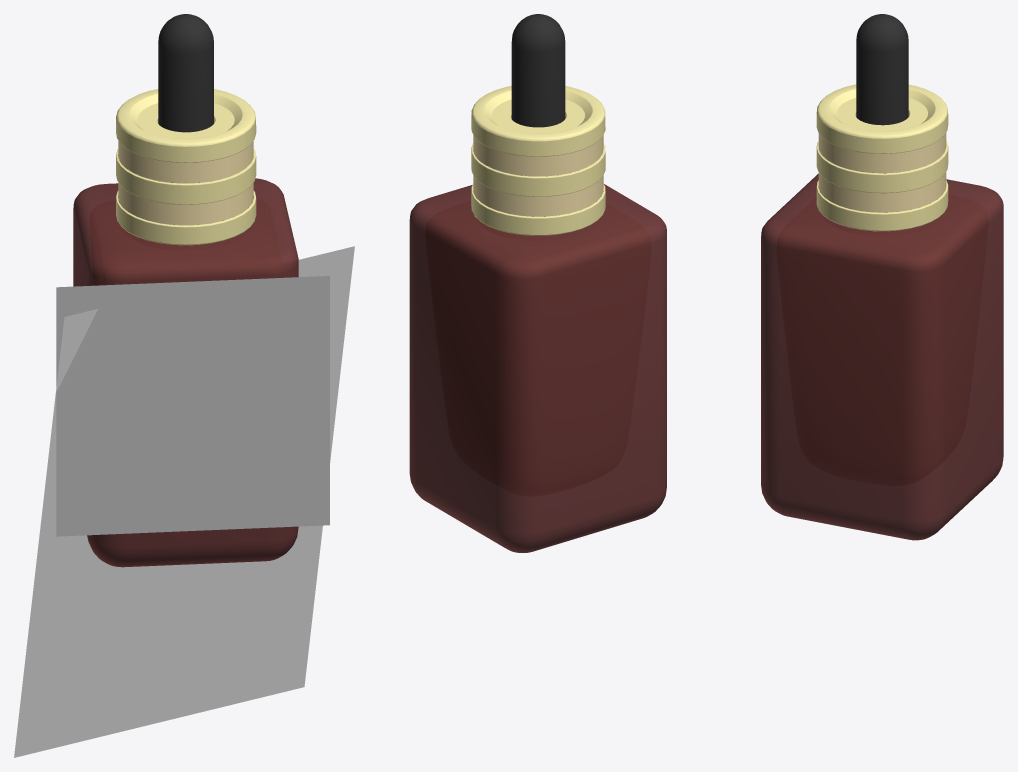
The model's file is Bottle.gltf.
The picture shows the model from 3 angles, left to right: view 1: azimuth 30°, elevation 25°; view 2: azimuth 150°, elevation 25°; view 3: azimuth 270°, elevation 25°; orthographic projection. The views are drawn at different scales.
Visible parts, largest first — view 1: TextFront, Flare, Body, Cap_Gold, Top, Cap_Sparkled_Gold; view 2: Body, Cap_Gold, Top, Cap_Sparkled_Gold; view 3: Body, Cap_Gold, Top, Cap_Sparkled_Gold.
Boxes of the visible parts, x1=… form: TextFront: x1=56, y1=276, x2=329, y2=536; Flare: x1=14, y1=246, x2=354, y2=757; Body: x1=73, y1=178, x2=298, y2=567; Cap_Gold: x1=116, y1=89, x2=256, y2=245; Top: x1=158, y1=14, x2=213, y2=182; Cap_Sparkled_Gold: x1=118, y1=141, x2=253, y2=225; Body: x1=409, y1=172, x2=666, y2=552; Cap_Gold: x1=471, y1=86, x2=605, y2=235; Top: x1=511, y1=14, x2=565, y2=176; Cap_Sparkled_Gold: x1=473, y1=135, x2=603, y2=216; Body: x1=761, y1=173, x2=1003, y2=540; Cap_Gold: x1=816, y1=84, x2=948, y2=231; Top: x1=856, y1=14, x2=908, y2=173; Cap_Sparkled_Gold: x1=818, y1=132, x2=946, y2=212.
Size of what is drawn, in the model's own units: 6.4 by 15.18 by 5.39.
